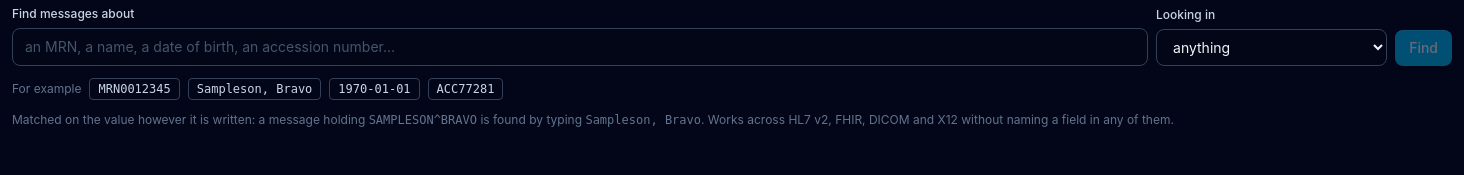
Test case: an empty patient search › says no message mentions the patient when the index is on
Type "MRN0012345" into the field with placeholder "an MRN, a name, a date of birth, an accession number…".
click(580, 47); type("MRN0012345")  # box [12,28,1148,66]
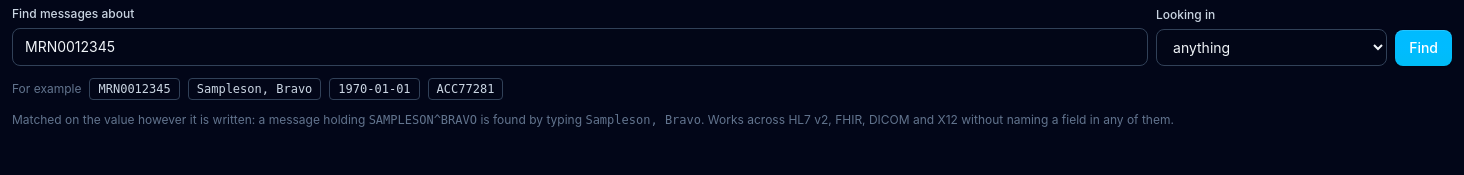
Click the button "Find".
click(1424, 48)  # box [1395,30,1452,66]
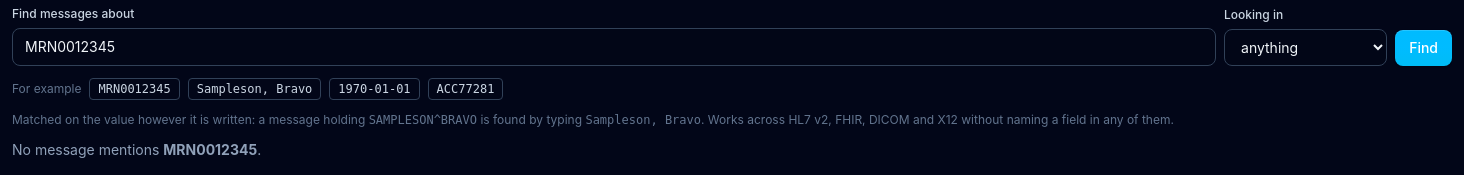
expect the text "No message mentions MRN0012345." is shown: met, box [12,141,261,158]
expect the text "No message mentions" is shown: met, box [12,141,163,158]
